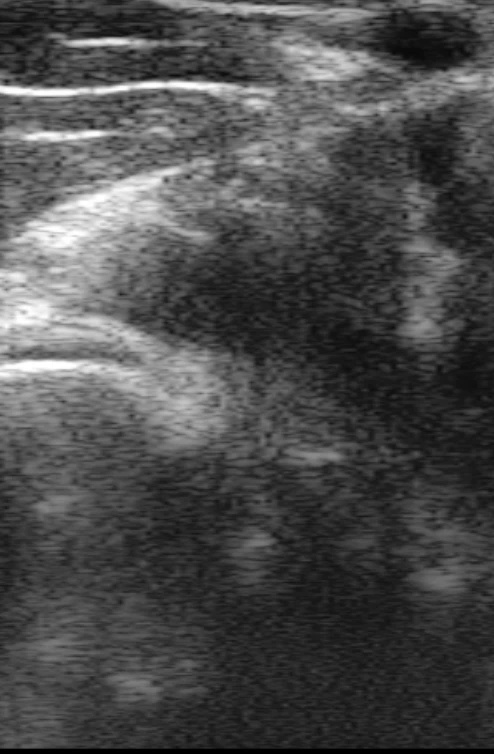veins_detect: (353, 4, 490, 81)
veins_seg: (367, 8, 481, 71)
